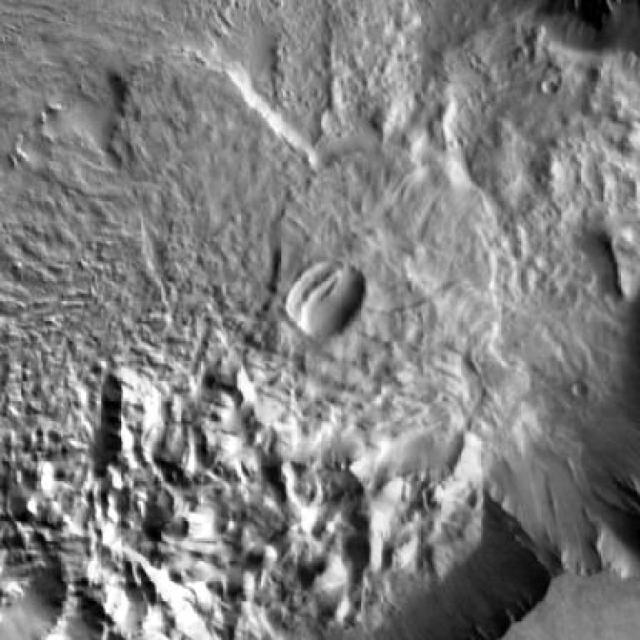crater: (287, 262, 365, 338), (572, 386, 588, 402)
